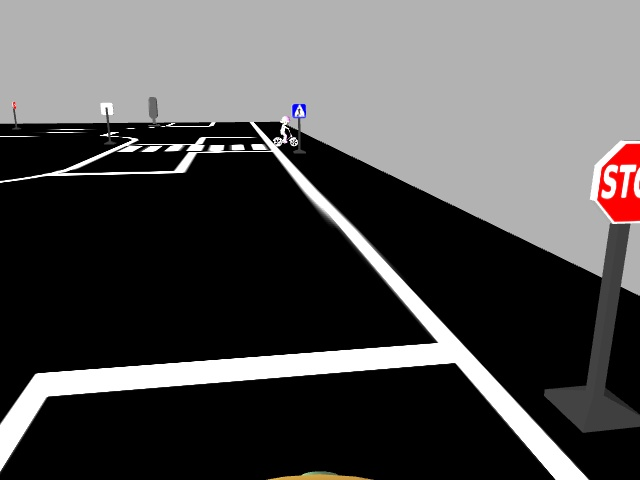Stop: (588, 135, 639, 228)
